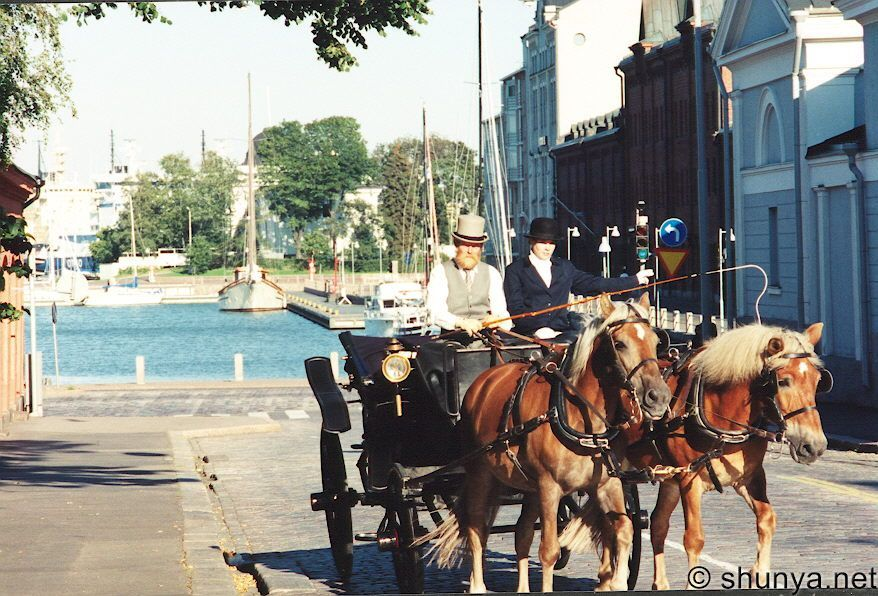horse: (410, 288, 673, 596), (556, 319, 831, 596)
